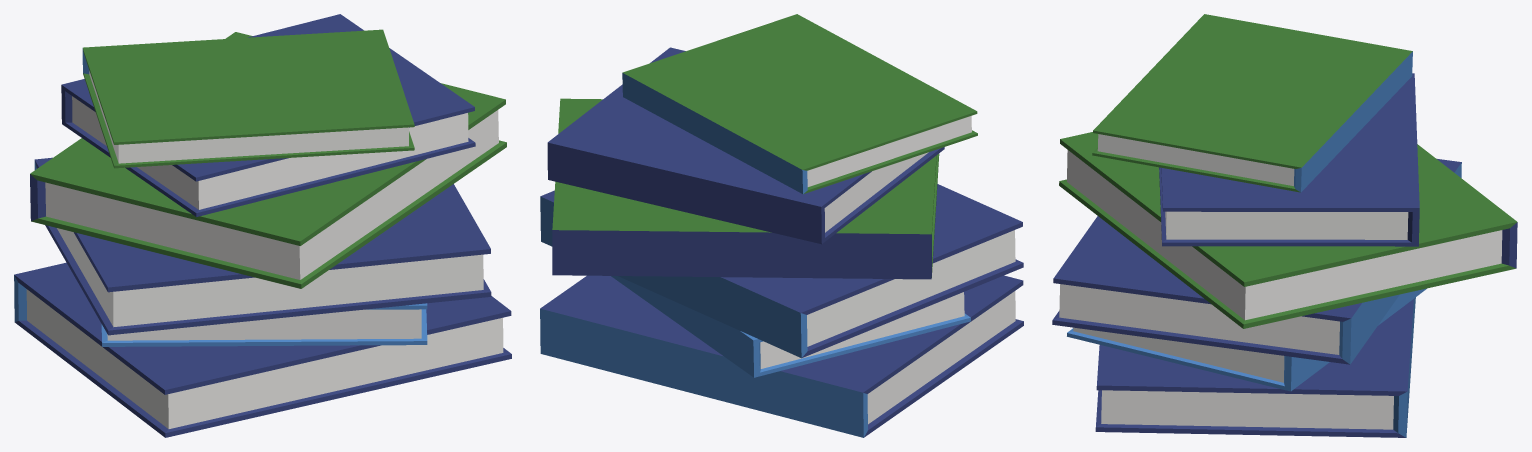
The model's file is Books_15.fbx.
3 views of the same model, side by side, from view 1: azimuth 30°, elevation 25°; view 2: azimuth 150°, elevation 25°; view 3: azimuth 270°, elevation 25° (orthographic). The views are drawn at different scales.
Parts seen in each view (by area): view 1: Books_15; view 2: Books_15; view 3: Books_15.
Boxes of the visible parts, x1,y1,x2,y2 form: Books_15: [14, 14, 511, 437]; Books_15: [540, 14, 1023, 437]; Books_15: [1052, 14, 1517, 437].
Bounding box in the file's own units: 51.96 × 48.55 × 29.55.
